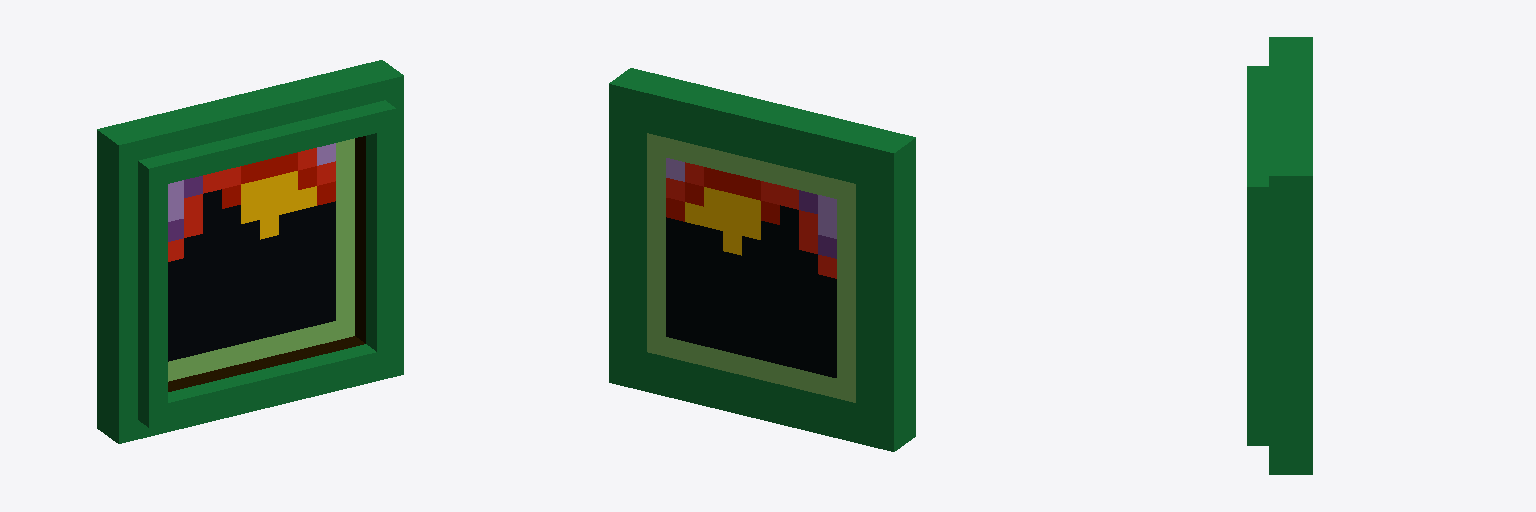
3 views of the same model, side by side, from view 1: azimuth 30°, elevation 25°; view 2: azimuth 150°, elevation 25°; view 3: azimuth 270°, elevation 25° (orthographic).
Parts seen in each view (by area): view 1: sunPainting; view 2: sunPainting; view 3: sunPainting.
Boxes of the visible parts, <box> form: sunPainting: <box>97,60,403,443</box>; sunPainting: <box>609,68,915,451</box>; sunPainting: <box>1247,37,1312,474</box>.
Bounding box in the file's own units: 15 × 15 × 3.
Materials: 1 (1 with a texture image).